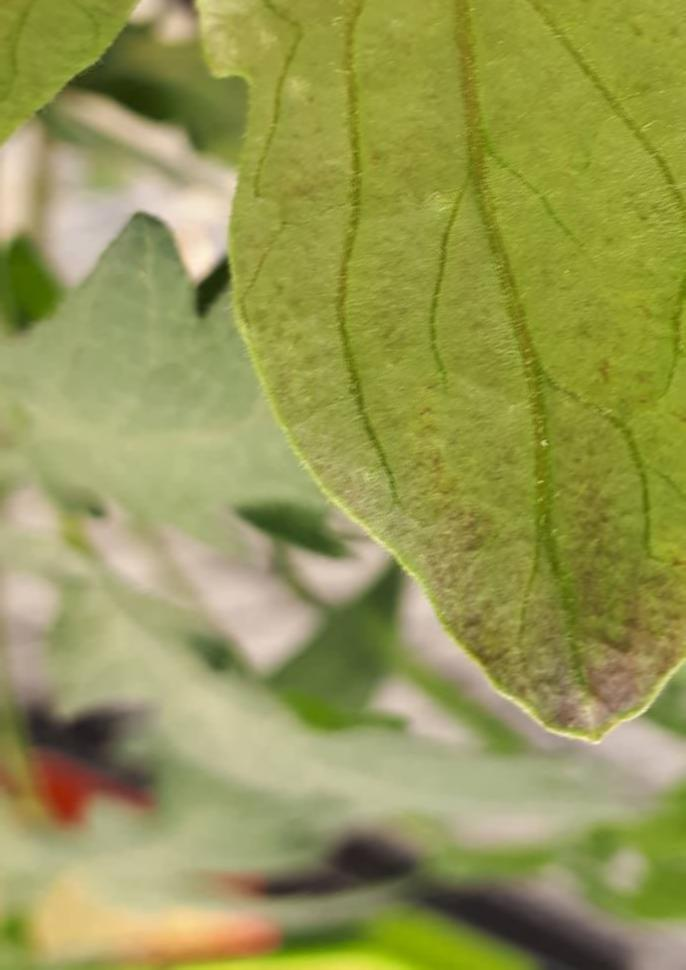Tomato mold leaf: (162, 0, 686, 779)
